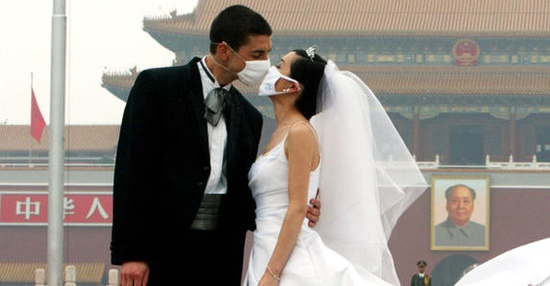face_mask: (258, 49, 299, 104), (232, 30, 269, 86), (444, 190, 473, 218)
